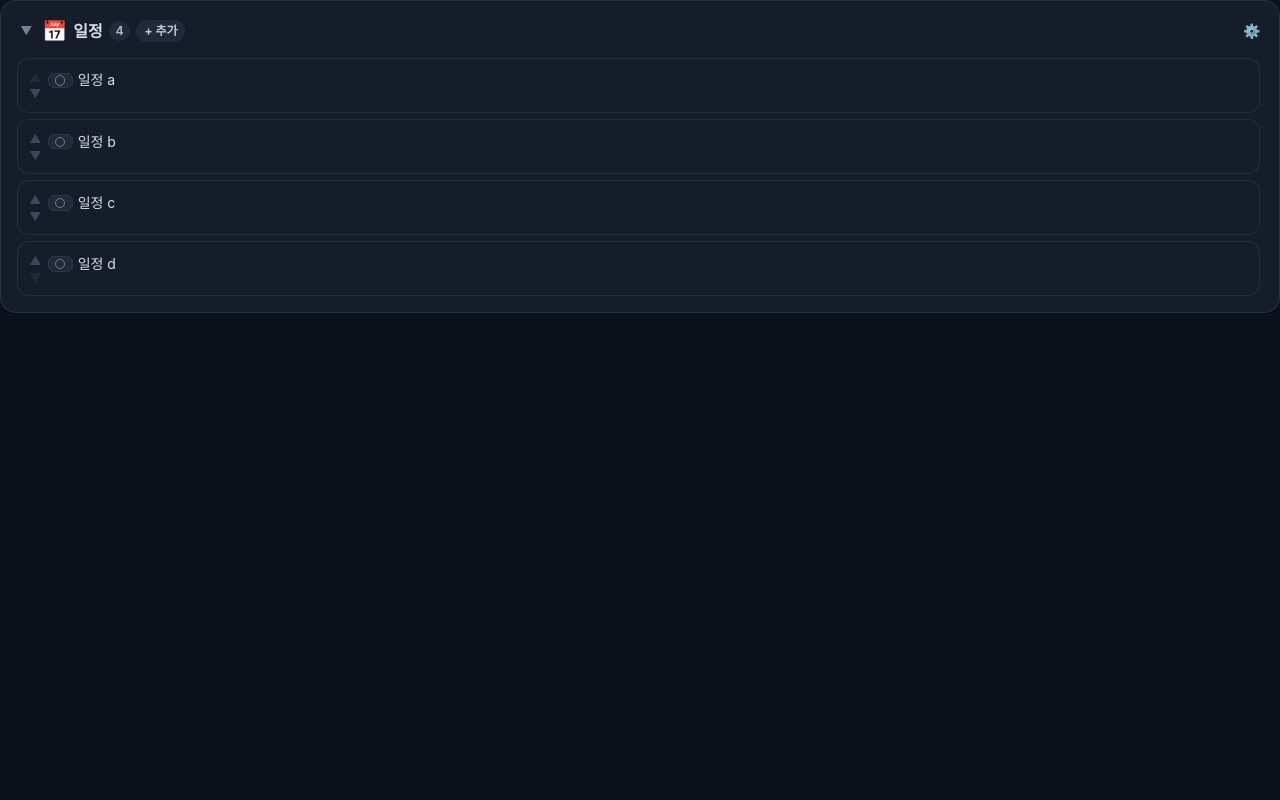
Test case: 여러 개 고르기 › 옮기기 = 처음엔 내일, 모두 그 날로 (한 묶음)
What coordinates should you click on to do the following:
click the element showing "일정 a"
I would click on:
 (638, 85)
Its box is left=17, top=58, right=1260, bottom=113.
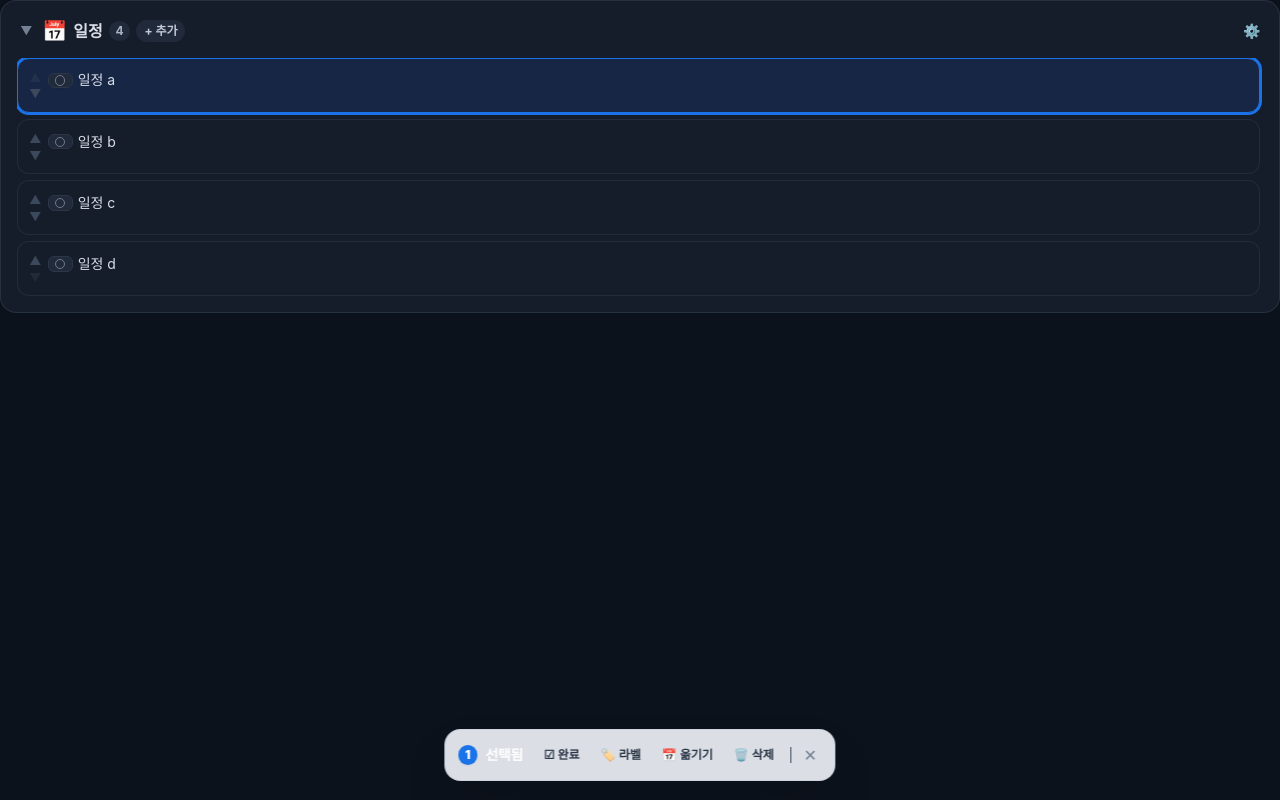
What coordinates should you click on to do the following:
click the element showing "일정 b"
I would click on:
 (638, 146)
Its box is left=17, top=119, right=1260, bottom=174.
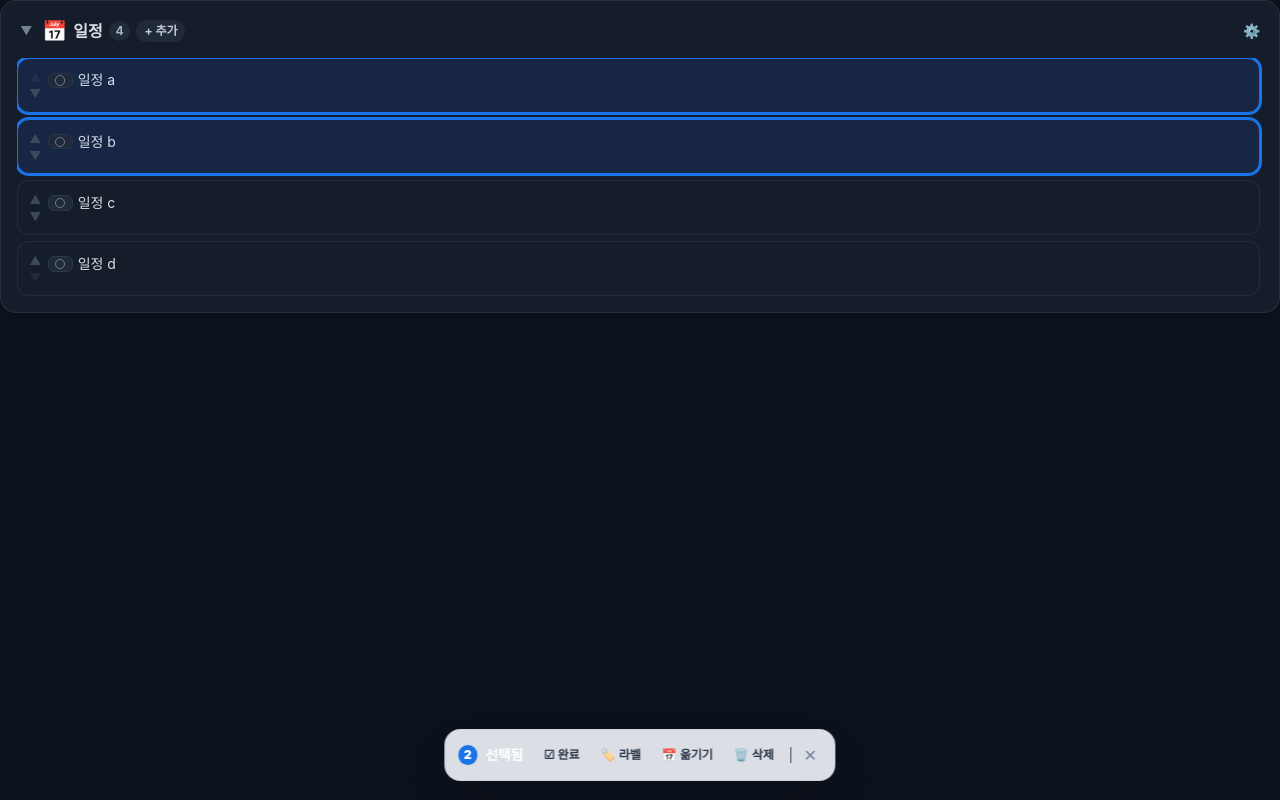
What coordinates should you click on to do the following:
click the button "📅 옮기기"
I would click on:
 (687, 755)
Its box is left=654, top=742, right=721, bottom=768.
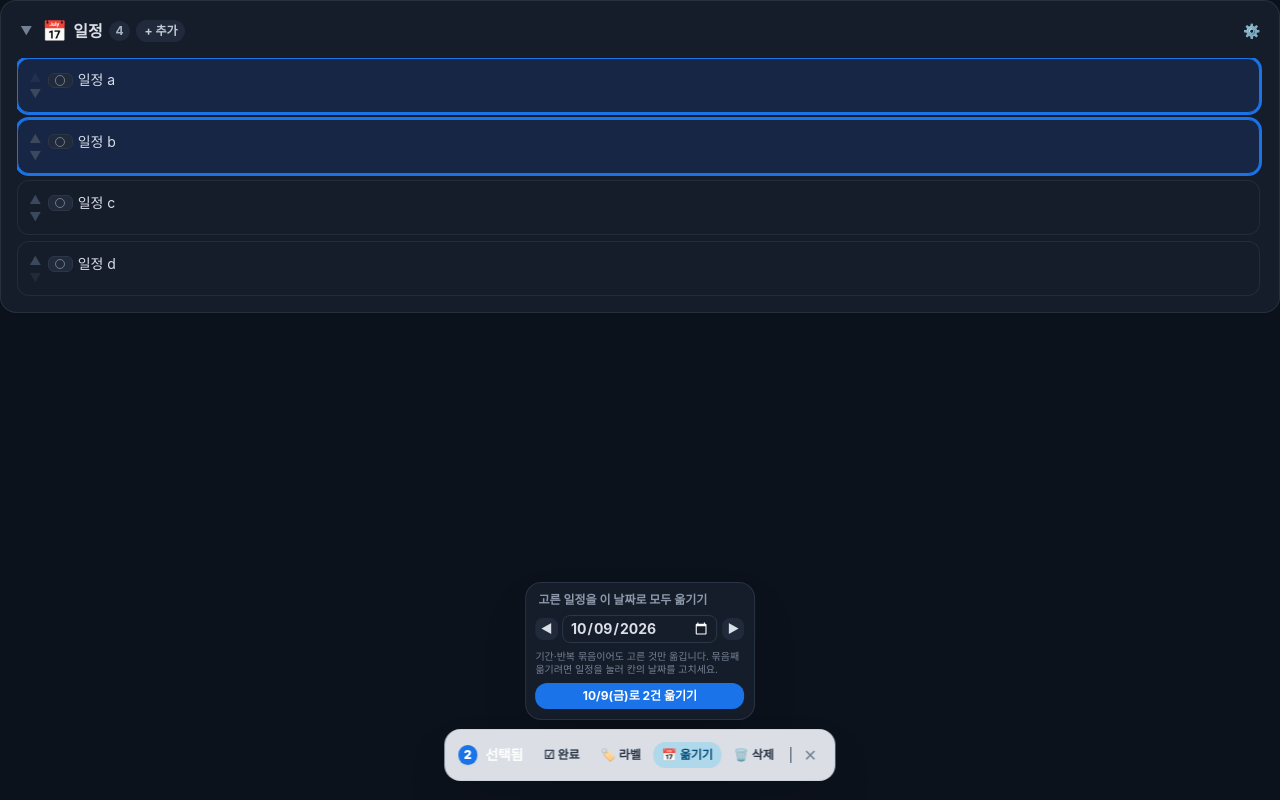
Expected: the date field named "옮길 날짜" holds "2026-10-09", left=563, top=615, right=717, bottom=643
What coordinates should you click on to do the following:
click the button "10/9(금)로 2건 옮기기"
I would click on:
 (640, 696)
Its box is left=535, top=683, right=745, bottom=709.
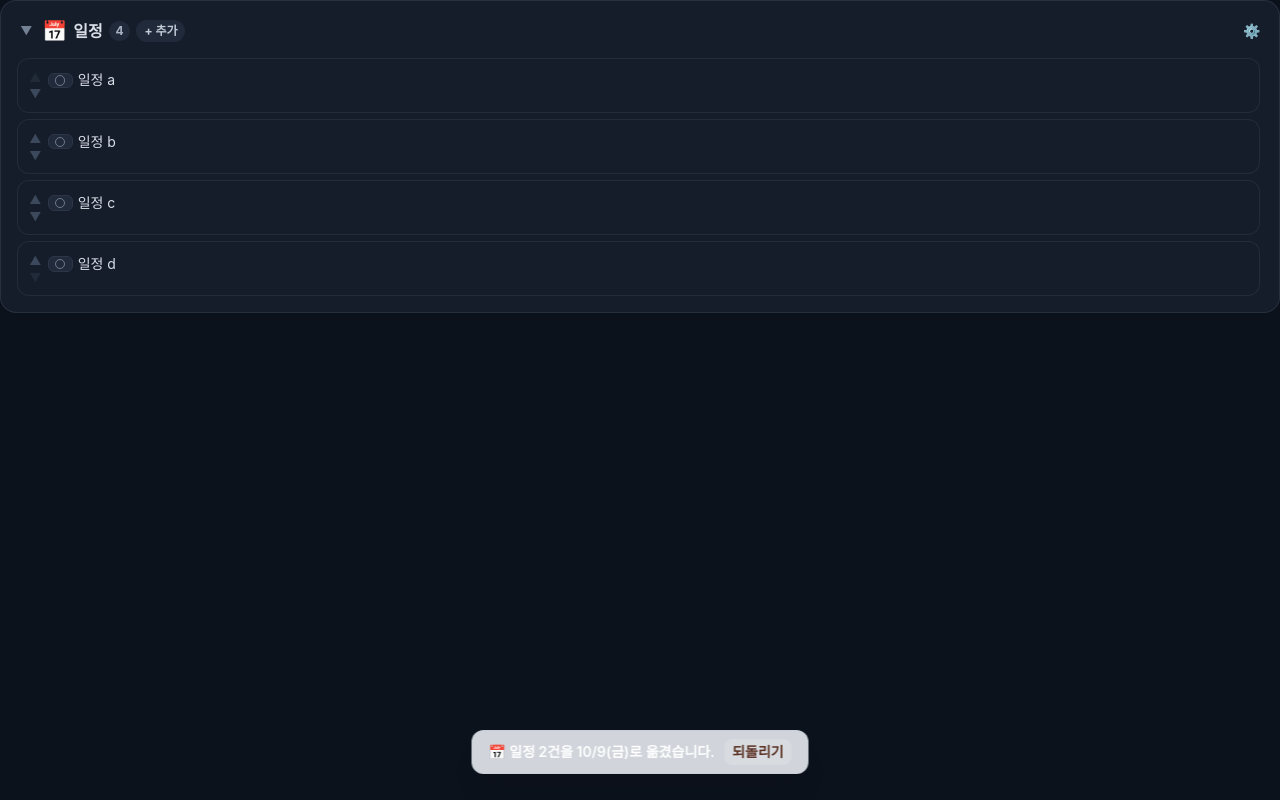
Expected: the message "📅 일정 2건을 10/9(금)로 옮겼습니다. 되돌리기" is shown, left=471, top=730, right=809, bottom=774
